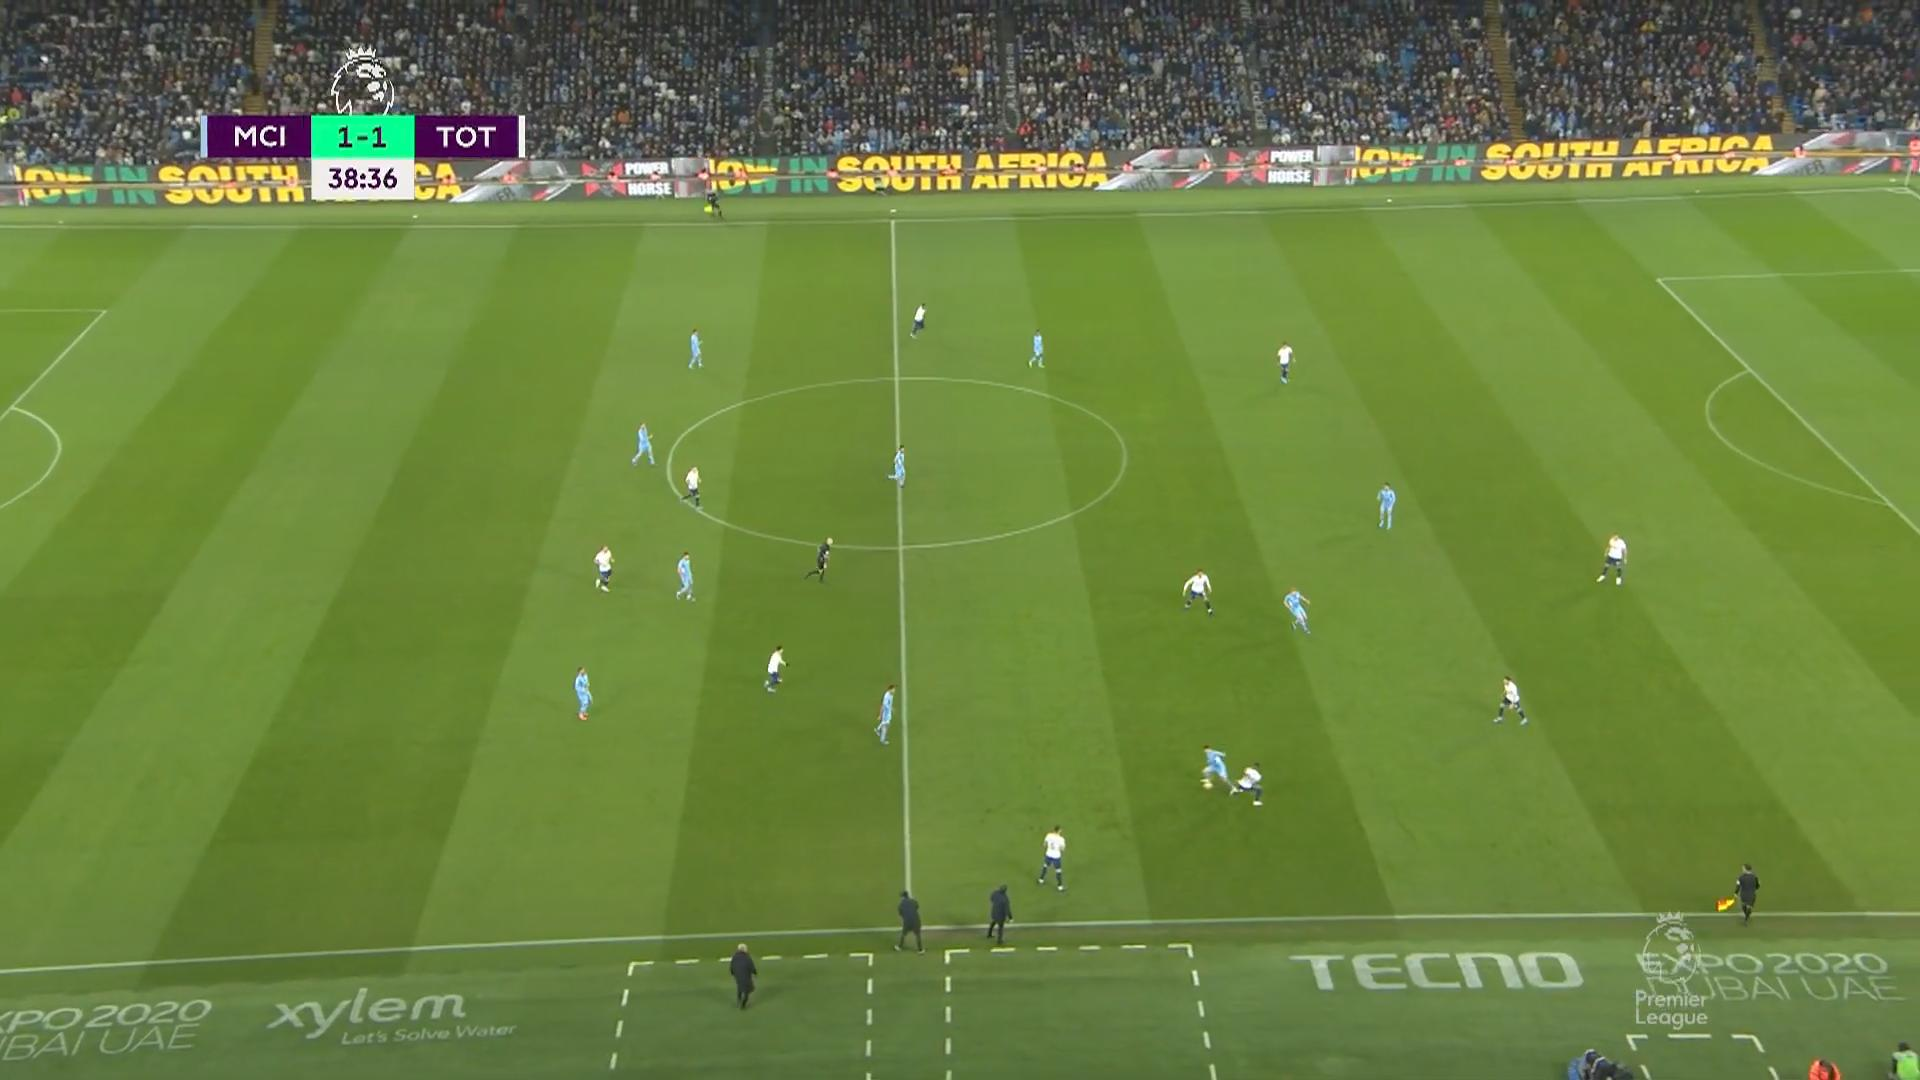ball: (1203, 782, 1212, 790)
player: (1035, 824, 1067, 891), (1198, 744, 1237, 794), (1492, 675, 1528, 725), (1596, 533, 1627, 585), (1180, 569, 1214, 615), (1229, 761, 1263, 806), (873, 684, 895, 744), (1282, 588, 1310, 633), (630, 421, 656, 466), (763, 644, 787, 692), (572, 665, 592, 720), (674, 551, 695, 601), (592, 544, 613, 592), (1375, 481, 1396, 529), (1275, 341, 1295, 384), (681, 465, 701, 507), (887, 444, 906, 487), (1027, 329, 1045, 368), (686, 328, 703, 369), (909, 302, 926, 338)
referee: (1734, 861, 1759, 924), (813, 536, 832, 582)
staff: (893, 888, 924, 952), (729, 941, 758, 1008), (985, 883, 1012, 943)
